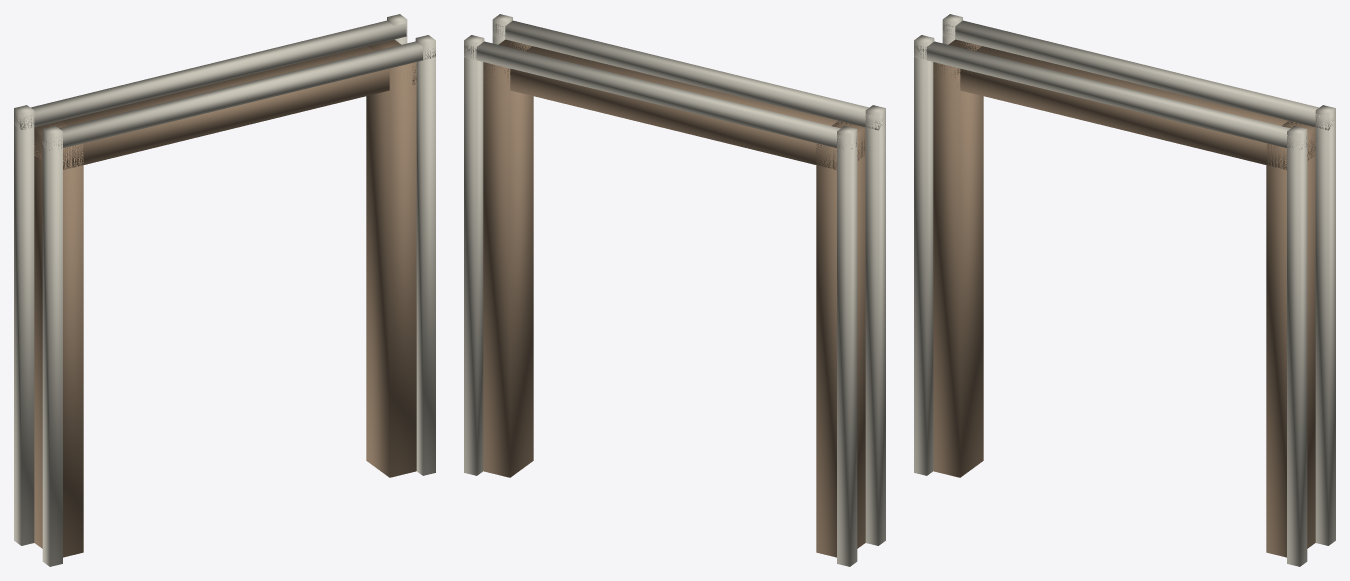
The model's file is doorway_painted_trim_w182_h220_d24.glb.
3 renders of one model, left to right at view 1: azimuth 30°, elevation 25°; view 2: azimuth 150°, elevation 25°; view 3: azimuth 330°, elevation 25°, orthographic.
Visible parts, largest first — view 1: world; view 2: world; view 3: world.
Part boxes in pixels (left/top/right/bottom): world: left=14, top=14, right=435, bottom=566; world: left=464, top=14, right=885, bottom=566; world: left=914, top=14, right=1335, bottom=566.
Bounding box in the file's own units: 2.29 × 2.46 × 0.3706.
